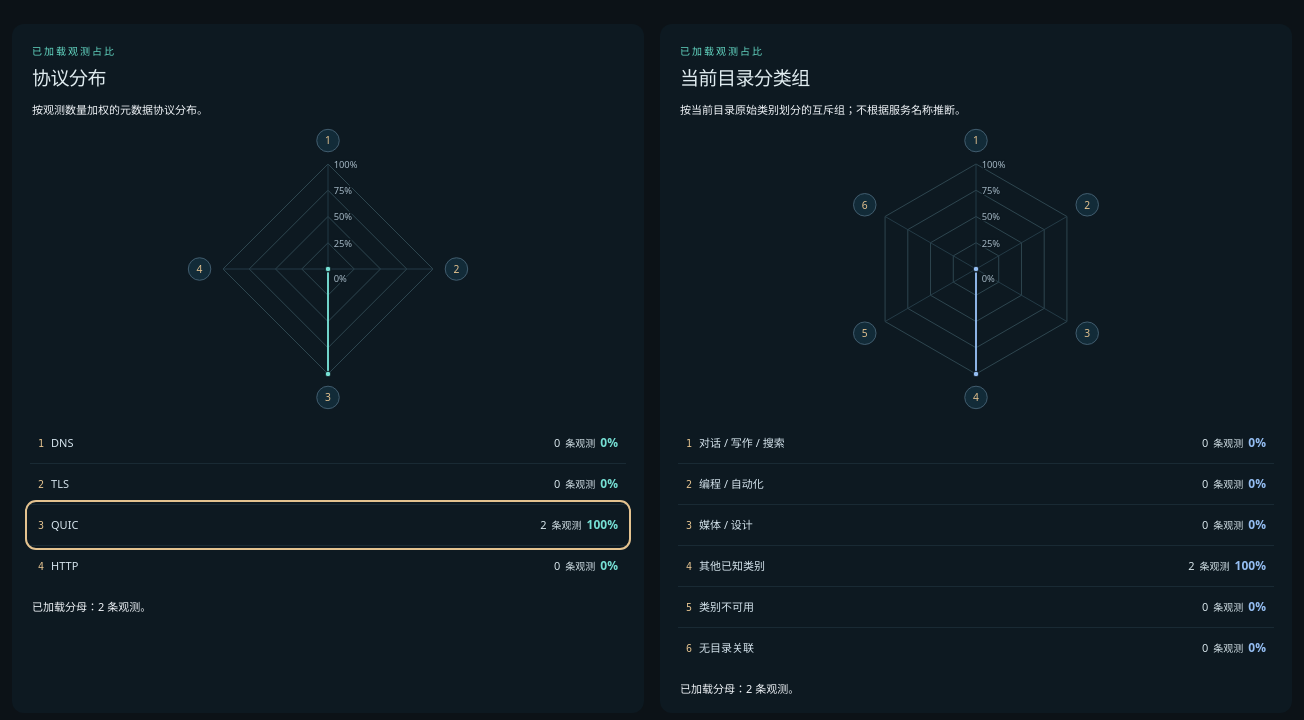
Test case: accessible loaded observation radars › renders localized fixed scale, numeric axis controls, denominator, raw evidence and subset limits in zh-CN
Click the button "3 QUIC 2 条观测 100%".
click(602, 525)  # box [30,505,626,545]
(page scrolled)
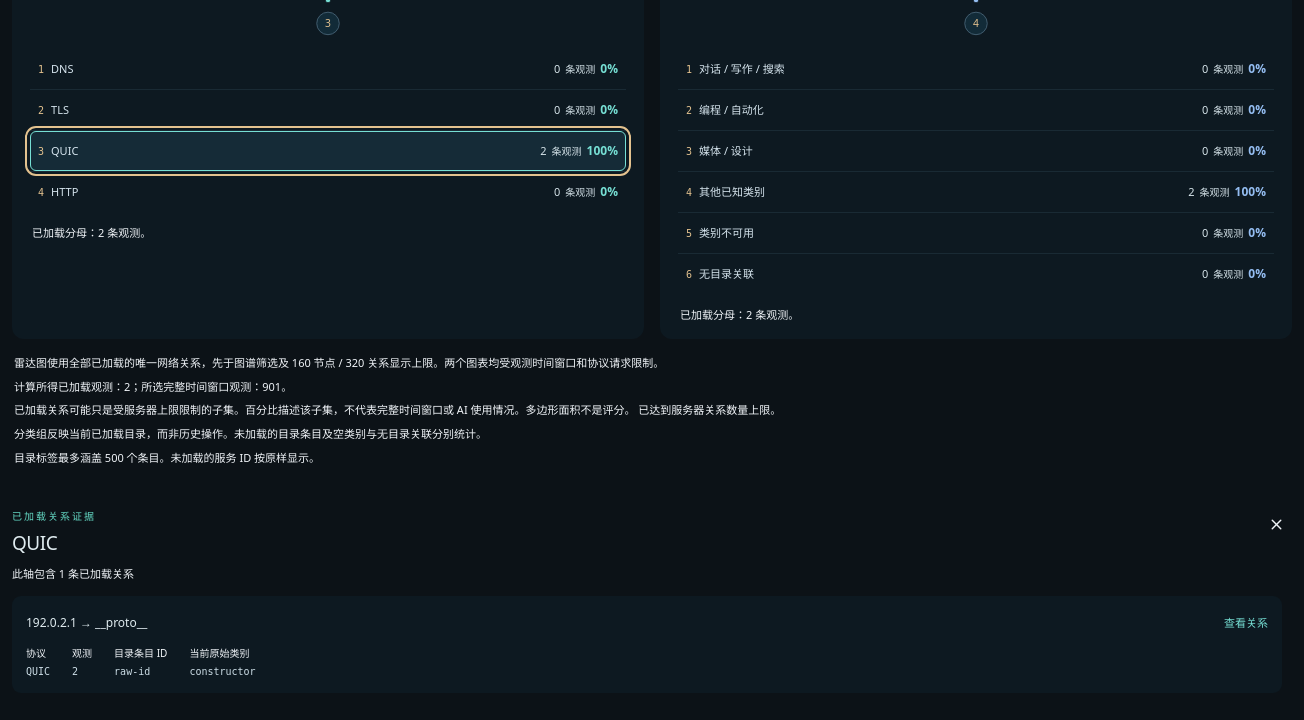
Now the text "constructor" is shown, box [189,664,256,679]
Now the text "raw-id" is shown, box [114,666,150,677]
Now the text "192.0.2.1 → __proto__" is shown, box [26,614,147,631]
Click the button named "关闭雷达图关系详情".
click(1276, 525)  # box [1261,509,1292,540]
(page scrolled)
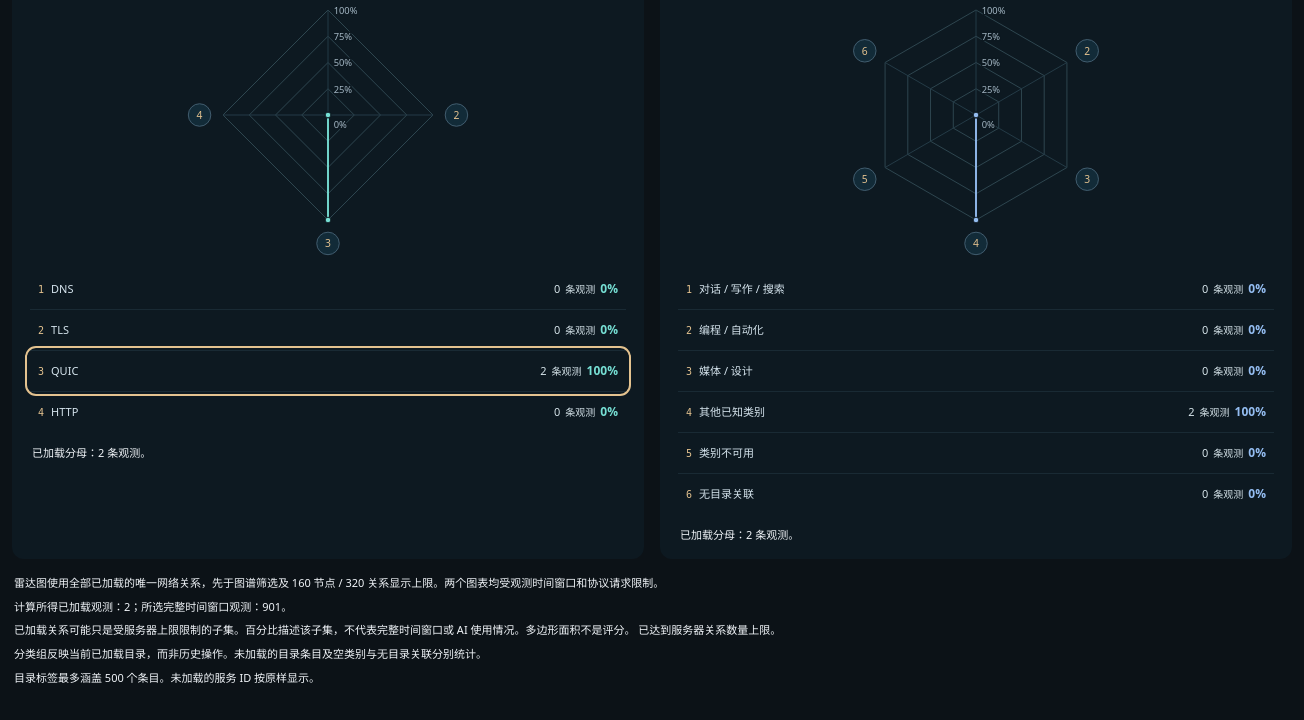
Now the element "雷达图关系详情" is gone
